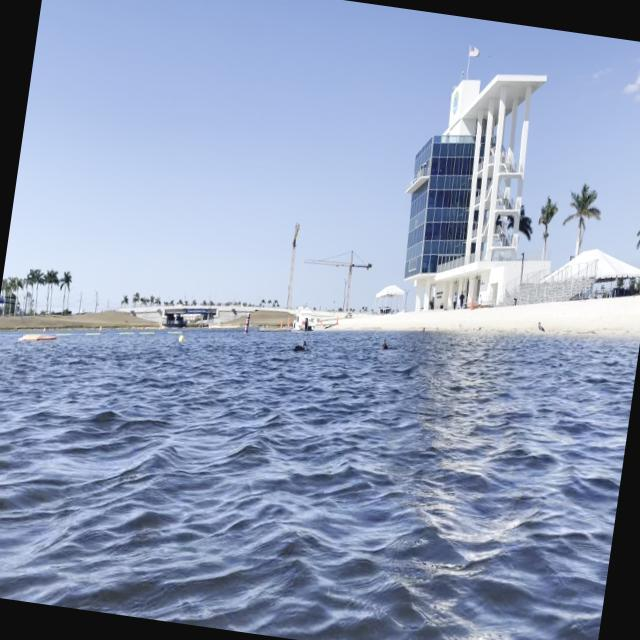buoy: (178, 334, 185, 344)
